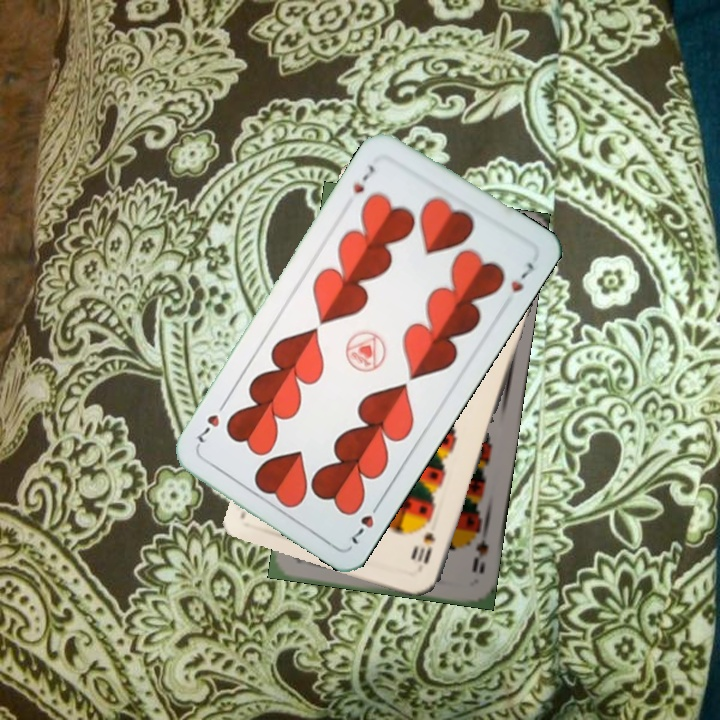H7: (343, 496, 385, 548), (348, 160, 377, 196)
S10: (413, 528, 438, 567)
S9: (467, 522, 491, 576)
